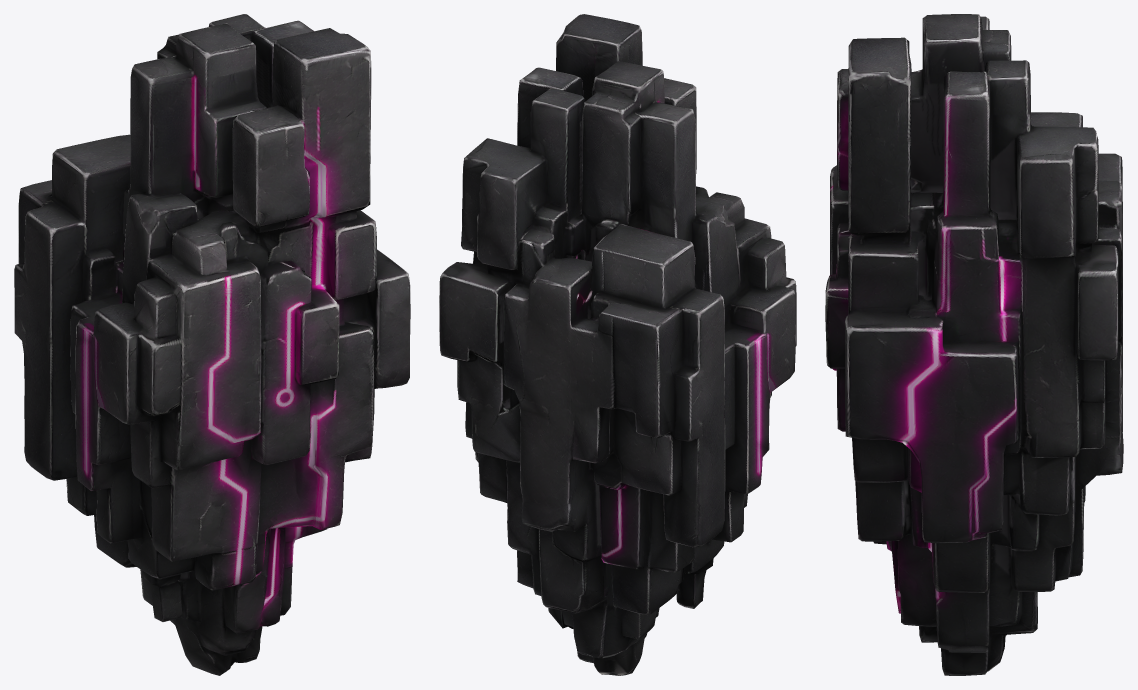
Rendered from Meshy_AI_Neon_Obsidian_Lattice_1017105302_texture.fbx.
3 renders of one model, left to right at view 1: azimuth 30°, elevation 25°; view 2: azimuth 150°, elevation 25°; view 3: azimuth 270°, elevation 25°, orthographic. The views are drawn at different scales.
Visible parts, largest first — view 1: Mesh_0; view 2: Mesh_0; view 3: Mesh_0.
Part boxes in pixels (left/top/right/bottom): Mesh_0: left=14, top=14, right=410, bottom=675; Mesh_0: left=439, top=14, right=796, bottom=675; Mesh_0: left=825, top=14, right=1123, bottom=675.
Size of the model in its own units: 86.28 by 191 by 79.67.
1 material, 1 textured.
